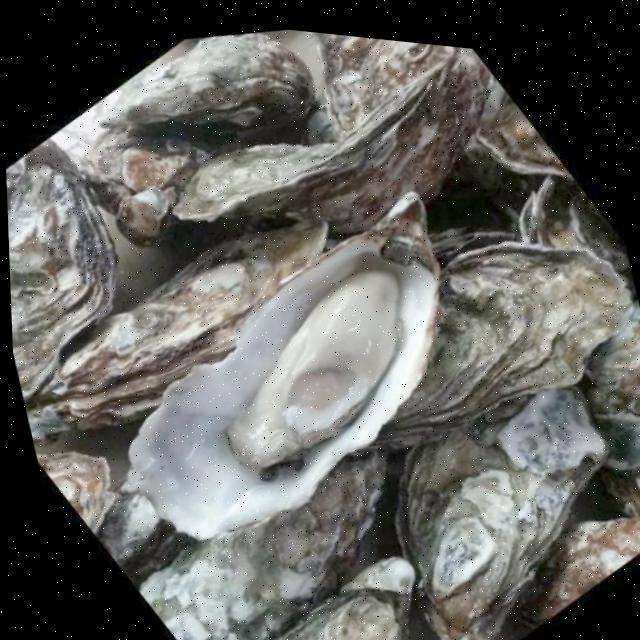Oyster-Indeterminate: (19, 196, 332, 447), (340, 207, 640, 461), (166, 47, 503, 238), (385, 381, 617, 640), (124, 431, 393, 640), (6, 127, 124, 401), (72, 112, 261, 256), (86, 32, 323, 140), (512, 156, 640, 310), (297, 31, 460, 143), (508, 511, 640, 640), (260, 546, 421, 640), (579, 292, 640, 517), (469, 70, 578, 184), (35, 448, 119, 538), (96, 488, 166, 571), (6, 158, 27, 231)
Oyster-Open: (115, 187, 450, 549)
